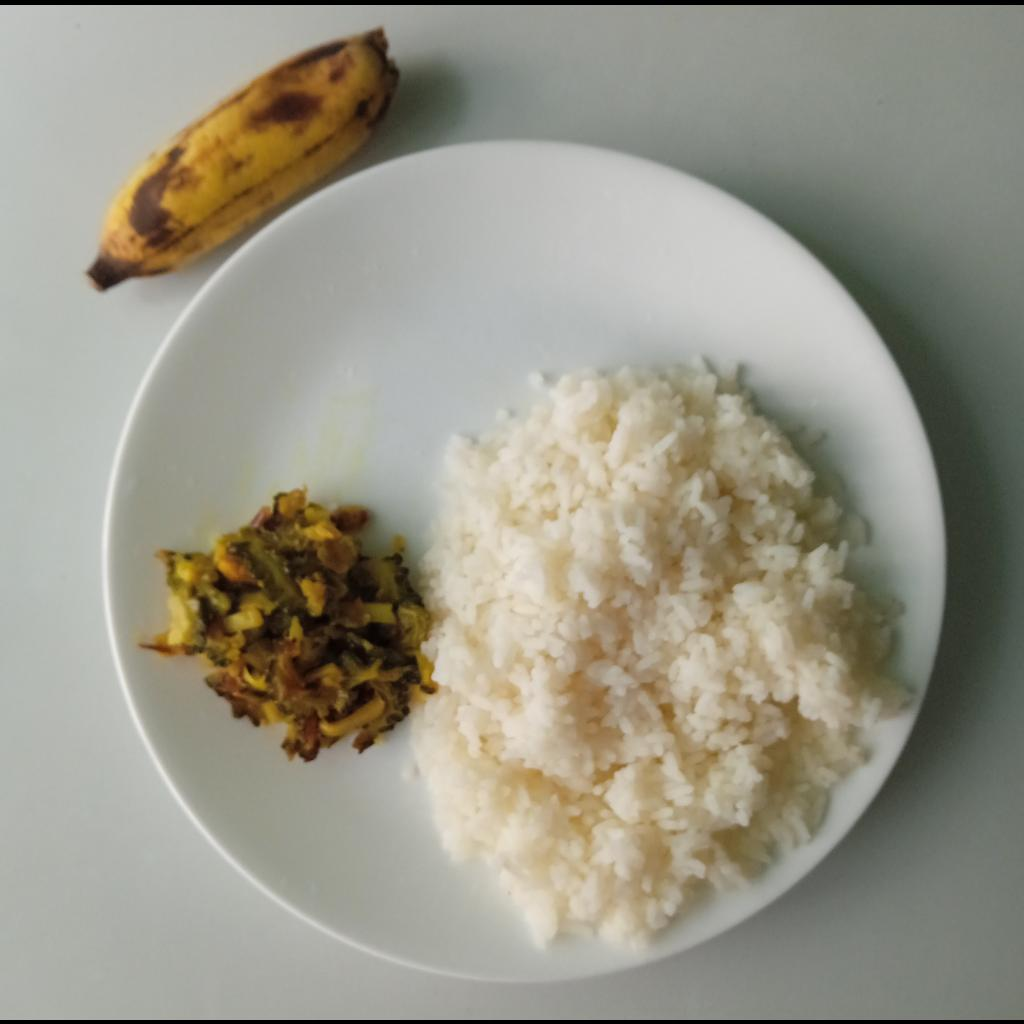banana: (79, 22, 396, 294)
korola-vaji: (146, 486, 436, 768)
rice: (410, 352, 918, 956)
